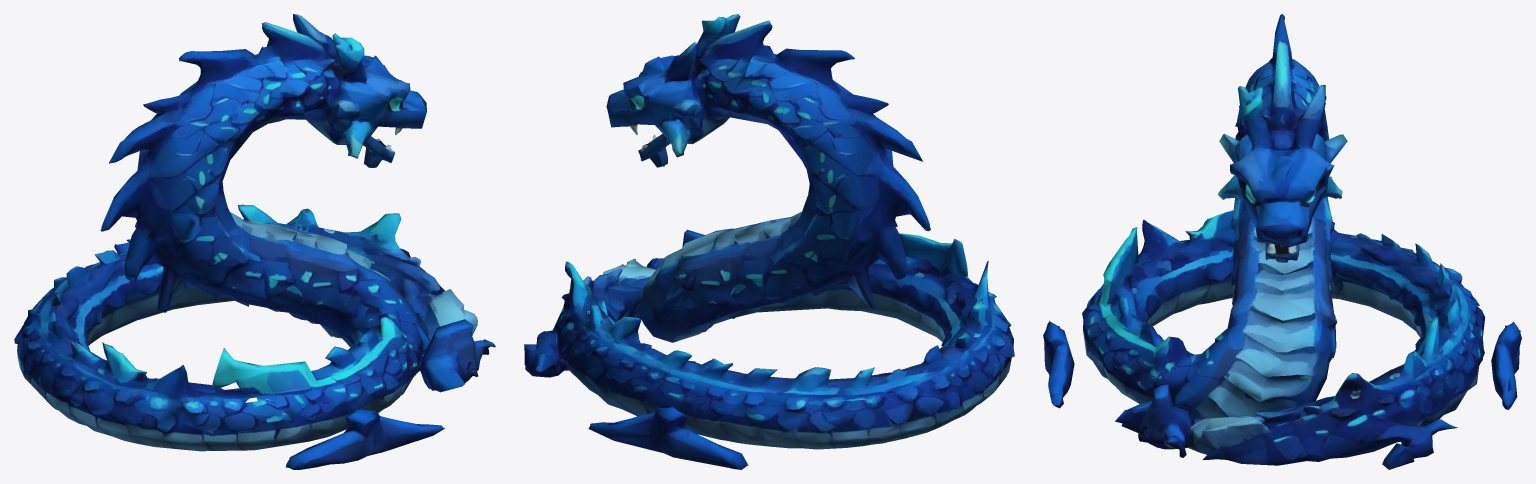
File: leviathan.glb
3 renders of one model, left to right at view 1: azimuth 30°, elevation 25°; view 2: azimuth 150°, elevation 25°; view 3: azimuth 270°, elevation 25°, orthographic.
Visible parts, largest first — view 1: tripo_node_164815c4; view 2: tripo_node_164815c4; view 3: tripo_node_164815c4.
Part boxes in pixels (x1,y1,x2,y2): tripo_node_164815c4: [14, 14, 495, 469]; tripo_node_164815c4: [524, 14, 1014, 469]; tripo_node_164815c4: [1043, 14, 1521, 469].
Bounding box in the file's own units: 97.69 × 78.28 × 99.45.
Materials: 1 (1 with a texture image).
